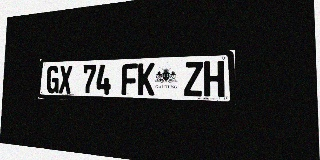4: (96, 64, 111, 95)
7: (82, 65, 96, 94)
F: (121, 63, 138, 95)
G: (46, 66, 59, 93)
H: (204, 61, 224, 97)
K: (138, 63, 155, 95)
X: (59, 65, 72, 94)
Z: (184, 61, 203, 97)
